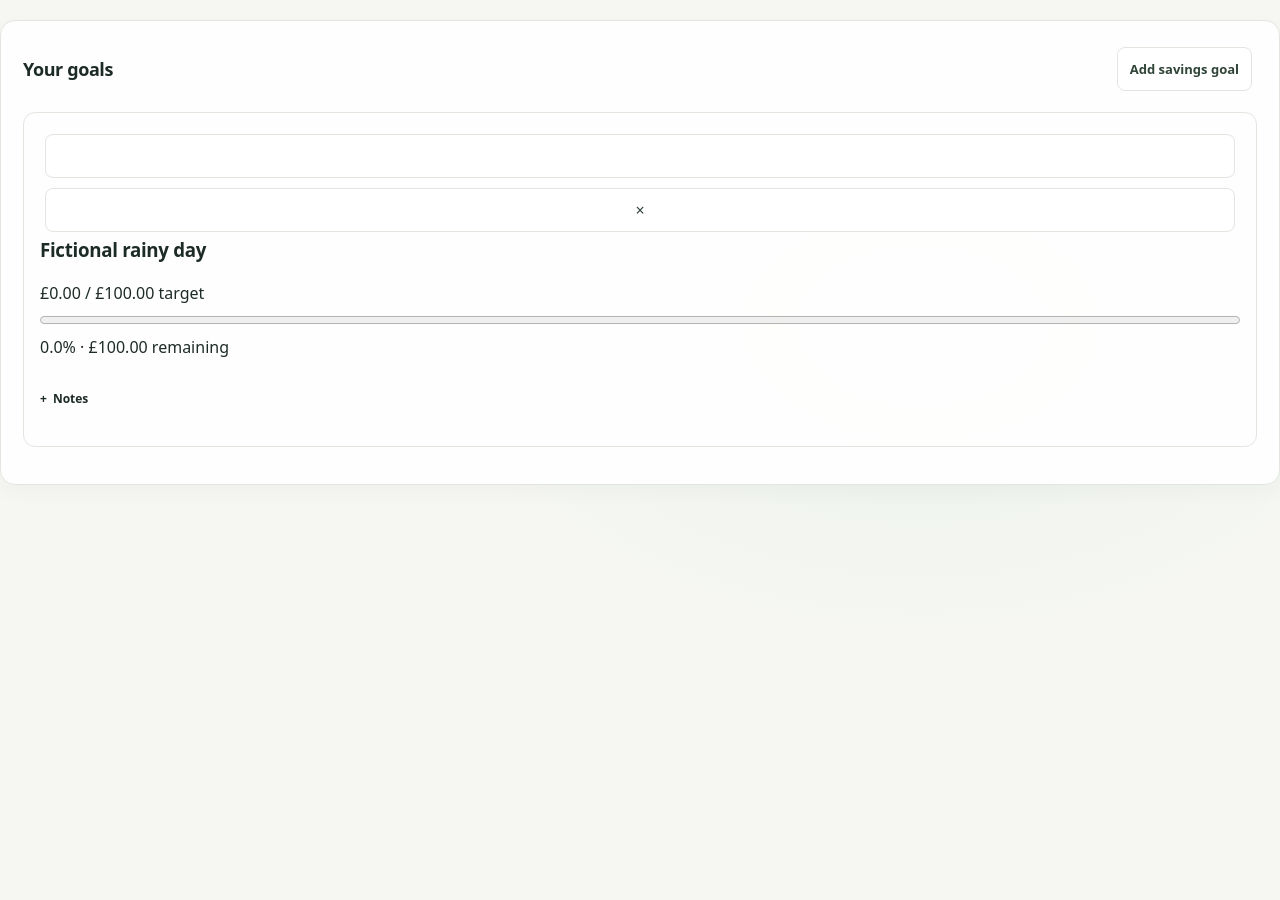
savings goals › rejects invalid target 0 and does not save
Expected: the heading "Fictional rainy day" is shown, [40,237,206,262]
Click the button "Add savings goal" at coordinates (1184, 69), box [1117,47,1252,91]
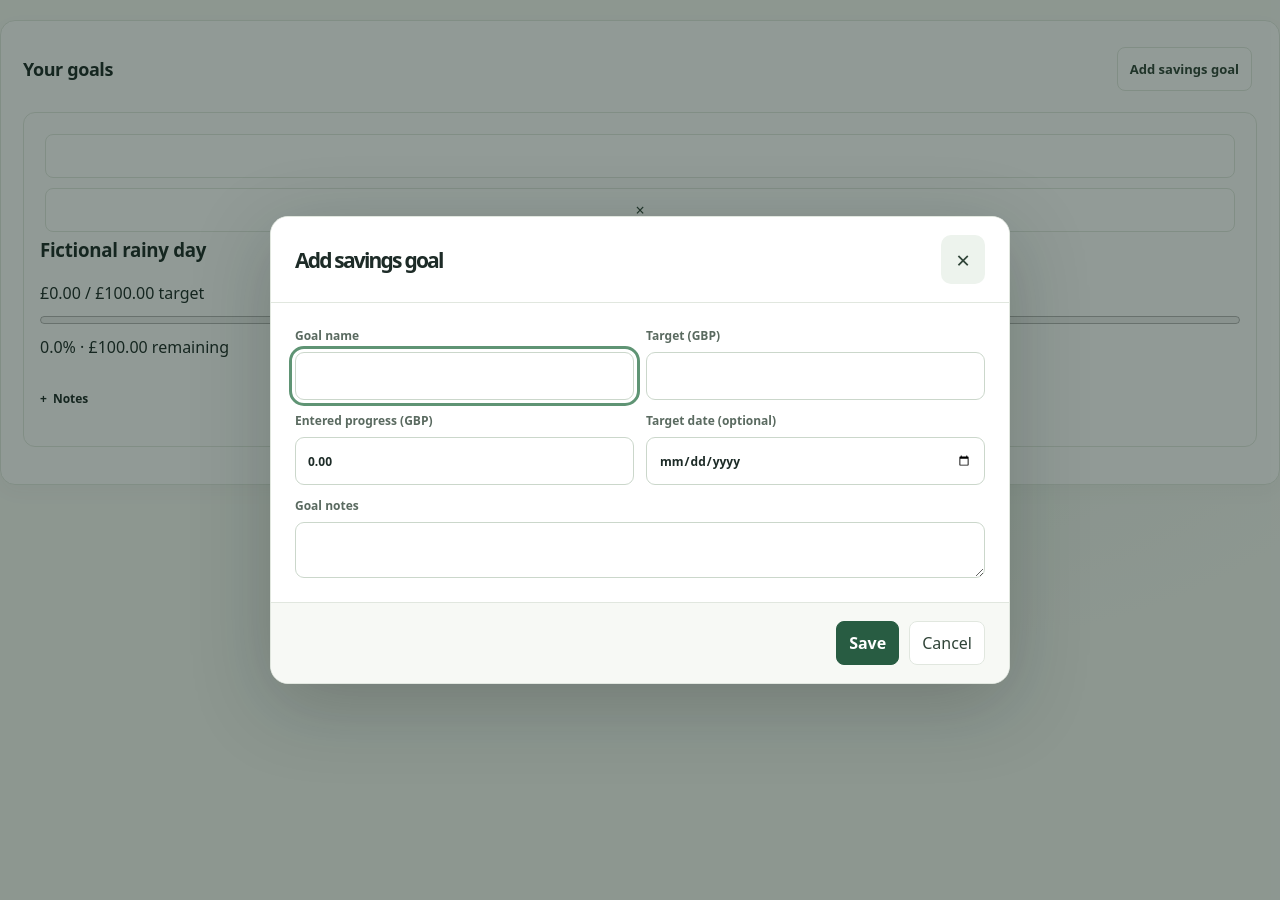
Type "Fictional goal" into the field labelled "Goal name" at coordinates (464, 376), box [295,352,634,400]
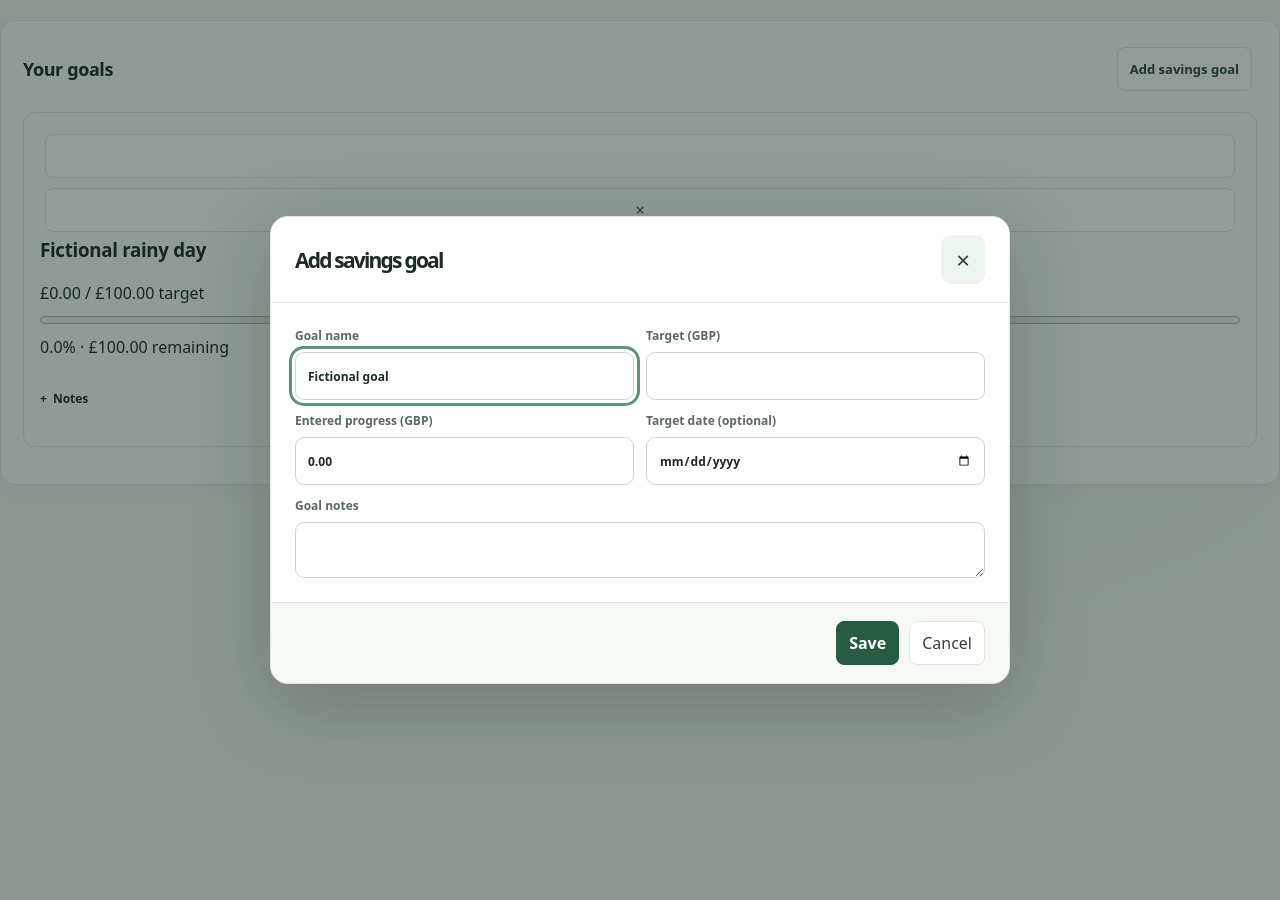
Type "0" into the field labelled "Target (GBP)" at coordinates (816, 376), box [646,352,985,400]
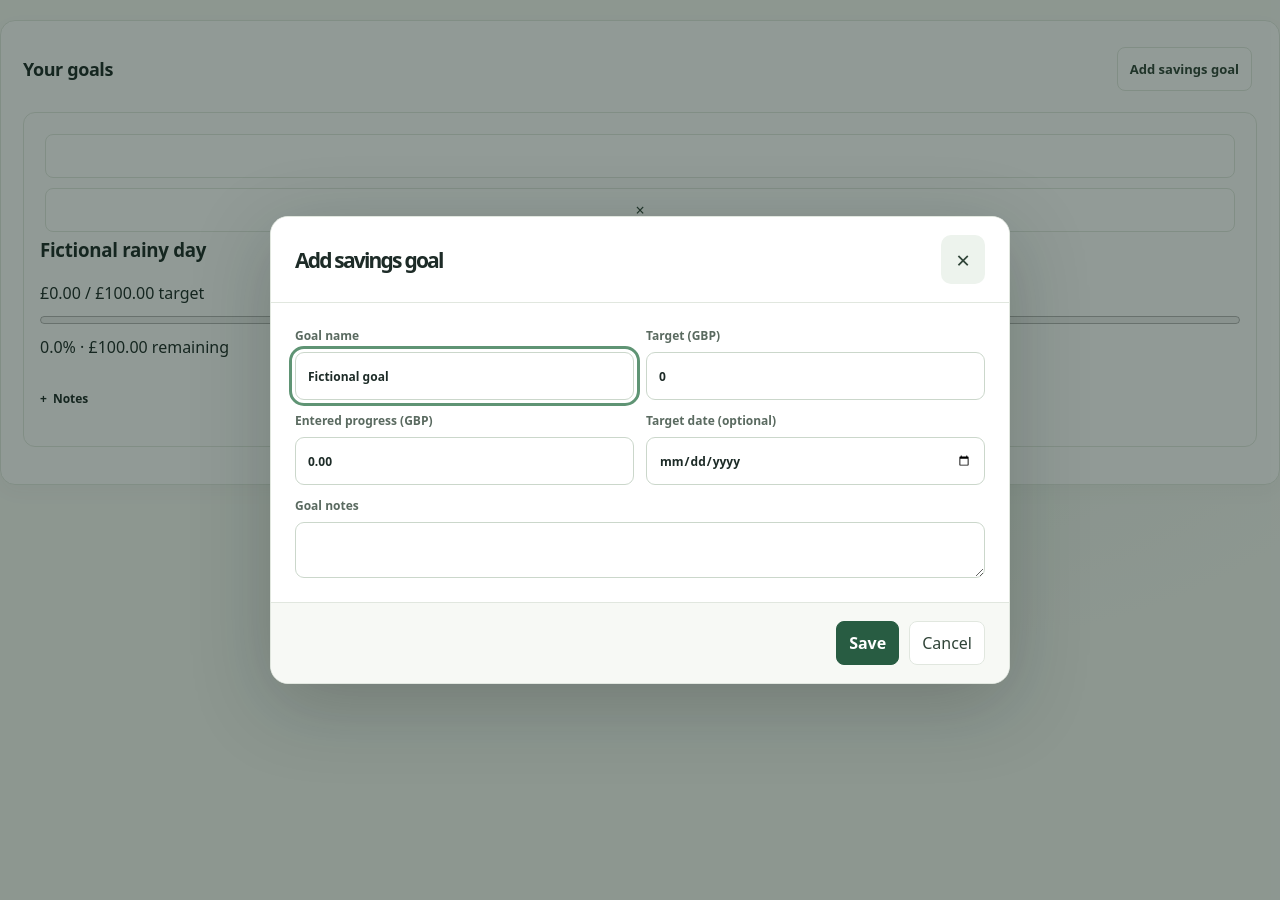
Click the button with aria-label "Save savings goal" at coordinates (868, 643), box [836,621,899,665]
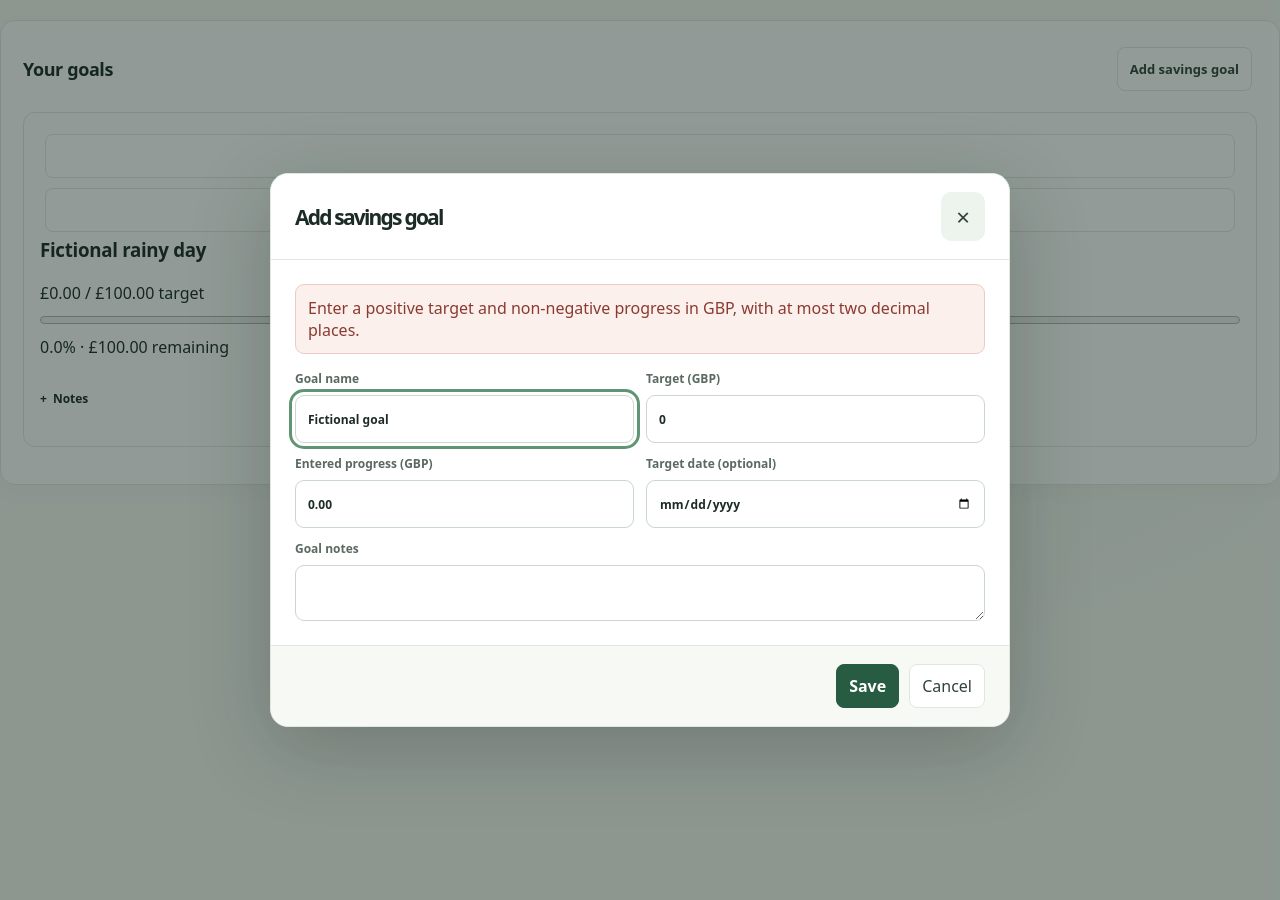
Expected: the message shows "positive target", [308,297,930,341]
